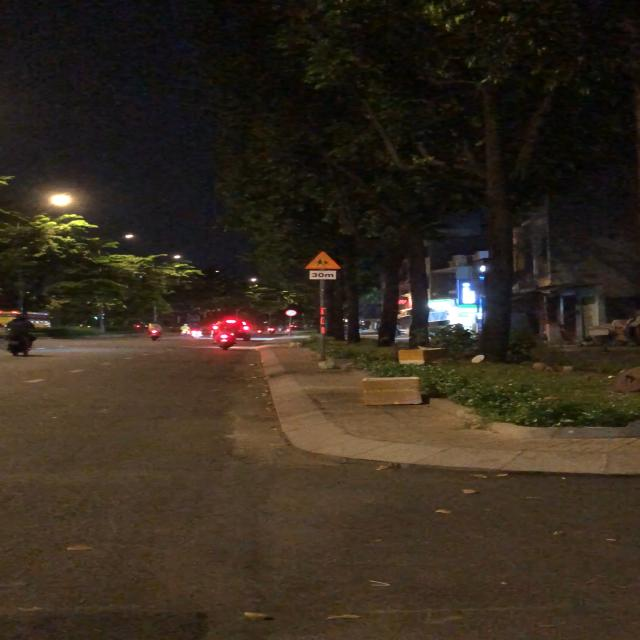Bien bao tre em: (303, 252, 343, 270)
